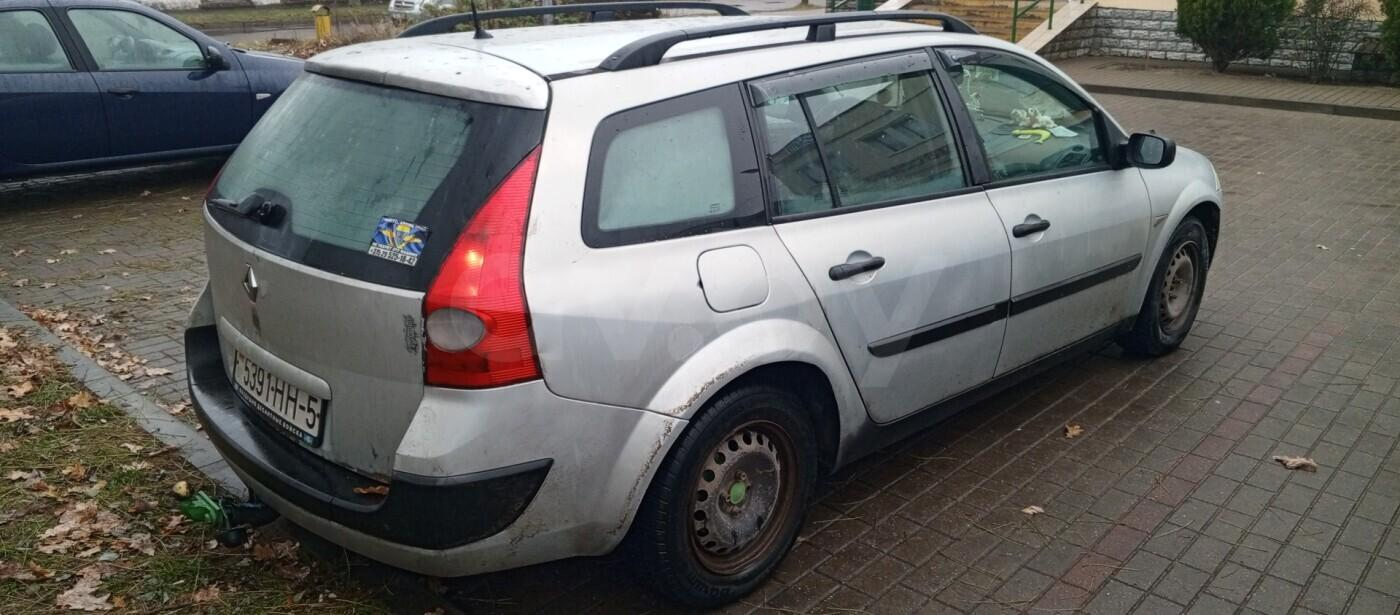Megane_2002-2006: (177, 11, 1216, 611)
